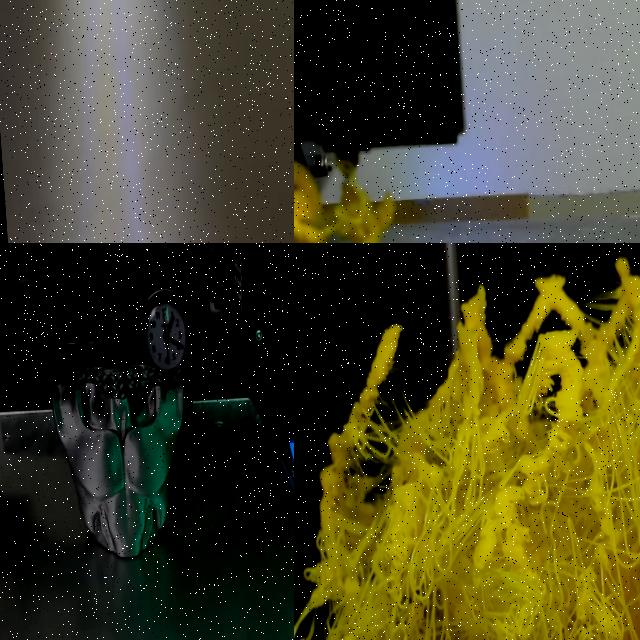spaghetti: (294, 243, 640, 640), (294, 142, 406, 243)
